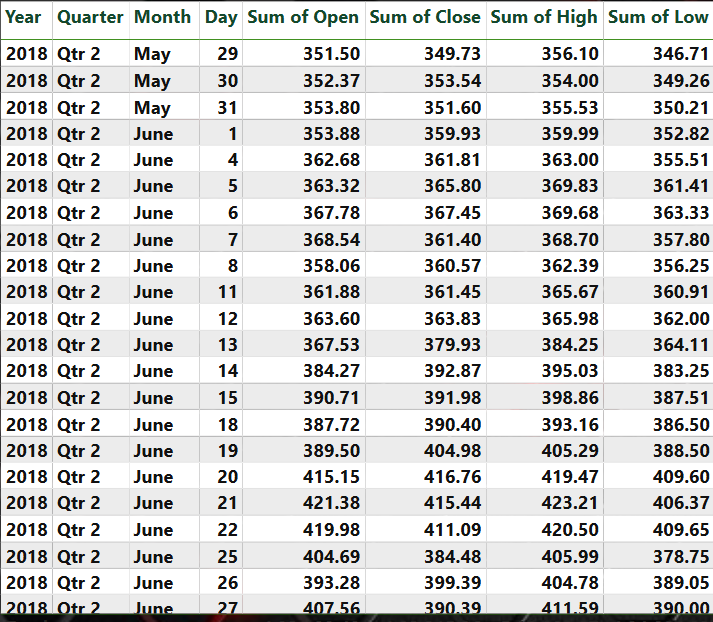

Layout of this report page (visuals, bound fields, positions):
{"tool":"powerbi","page":{"name":"Page 3","canvas":[1280,720],"ordinal":2},"visuals":[{"type":"tableEx","fields":{"Values":["Sheet1 (2).Date.Variation.Date Hierarchy.Year","Sheet1 (2).Date.Variation.Date Hierarchy.Quarter","Sheet1 (2).Date.Variation.Date Hierarchy.Month","Sheet1 (2).Date.Variation.Date Hierarchy.Day","Sum(Sheet1 (2).Open)","Sum(Sheet1 (2).Close)","Sum(Sheet1 (2).High)","Sum(Sheet1 (2).Low)"]},"box":[126.9,0,803.9,719.8],"z":0}]}

Visuals, with their boxes on the page's 1280x720 design canvas (x1, y1, x2, y2). These are canvas units, not pixel positions in the 713x622 screenshot, which may show the page scaled, cropped or inside an application window:
tableEx - Sheet1 (2).Date.Variation.Date Hierarchy.Year x Sheet1 (2).Date.Variation.Date Hierarchy.Quarter: pyautogui.locateOnScreen(127, 0, 931, 720)
